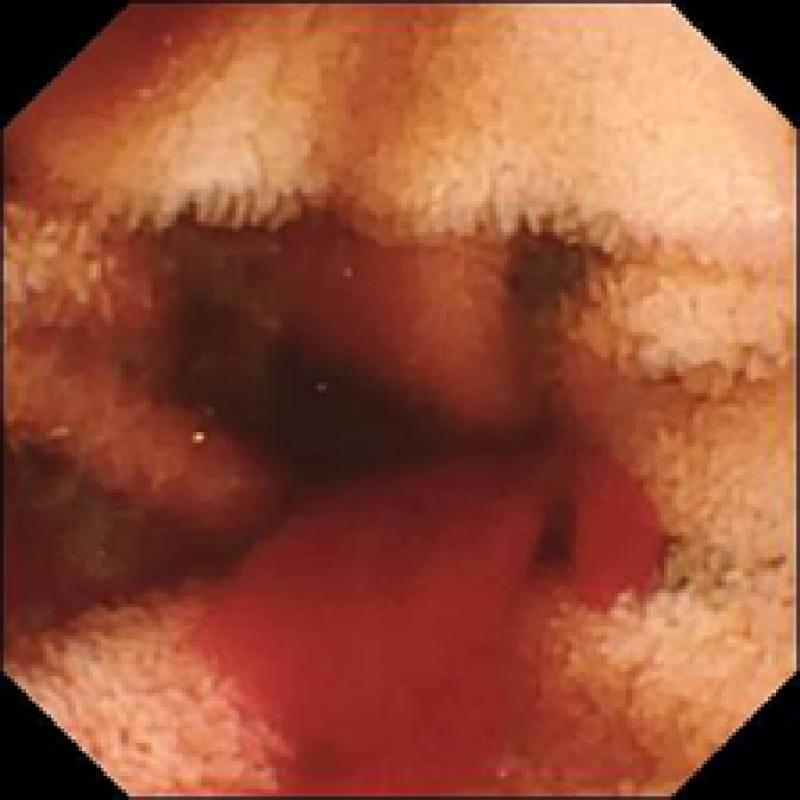bleeding: (182, 404, 657, 786)
